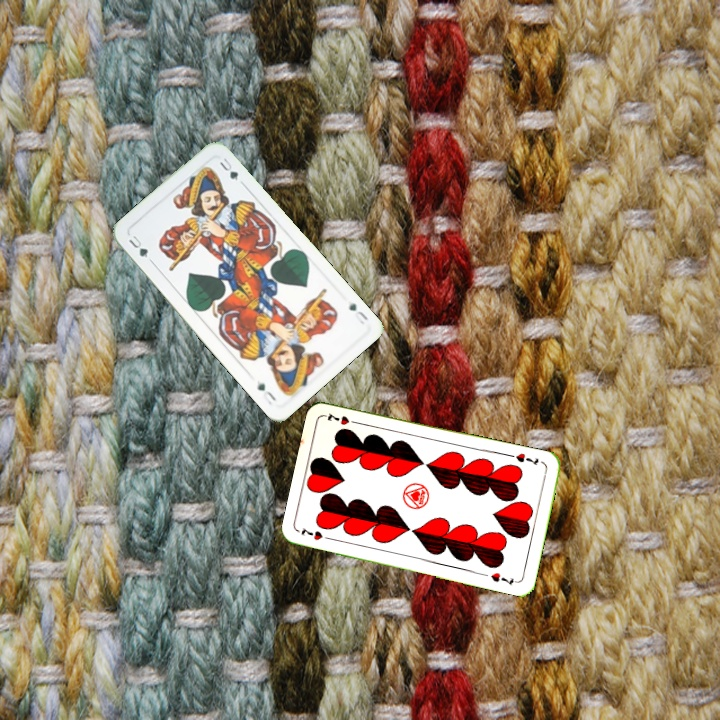GU: (124, 231, 155, 265), (345, 298, 370, 327)
H7: (297, 524, 336, 543), (512, 449, 541, 468)
